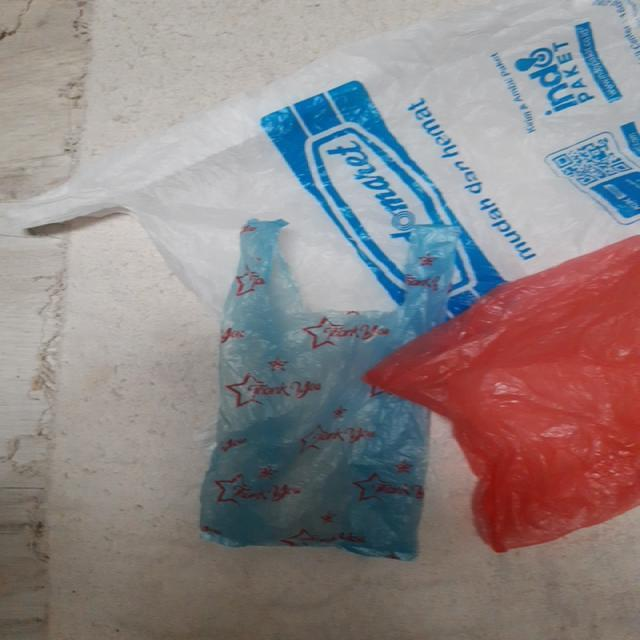Single-layer Plastic: (2, 0, 640, 316), (201, 220, 459, 559), (366, 236, 640, 551)
